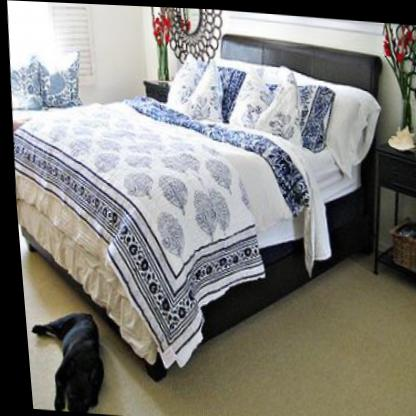Bed: (1, 14, 403, 392)
